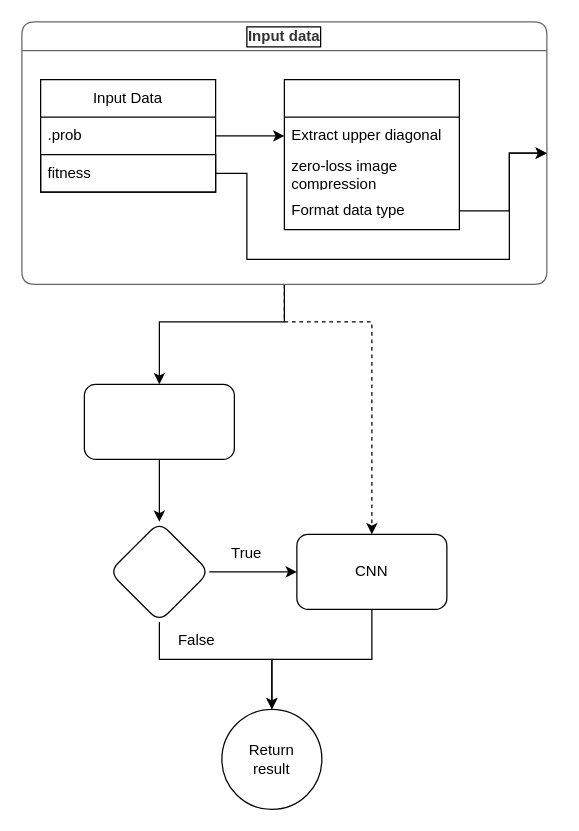
Image size: 579x831. Some labels were removed from this diagram. The shapes that lost their labels are listed below. From the top down, each one's box as (x1, y1, x2, y2) in pixels, then its label:
(283, 78, 459, 230): Preprocessing
(83, 383, 234, 459): Binary Classifier
(108, 521, 209, 622): result > 0
